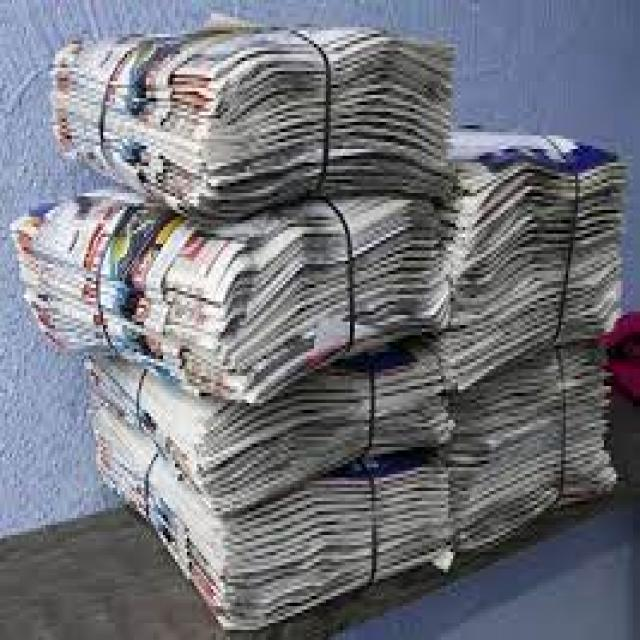Paper -Biodegradable-: (18, 17, 621, 630)
